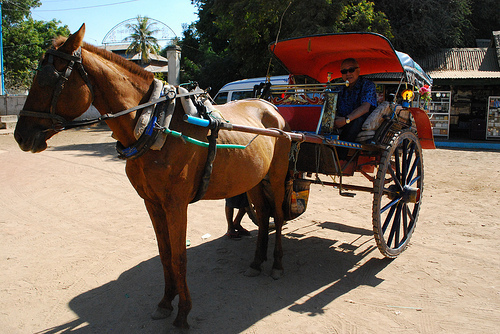horse: (15, 23, 294, 327)
